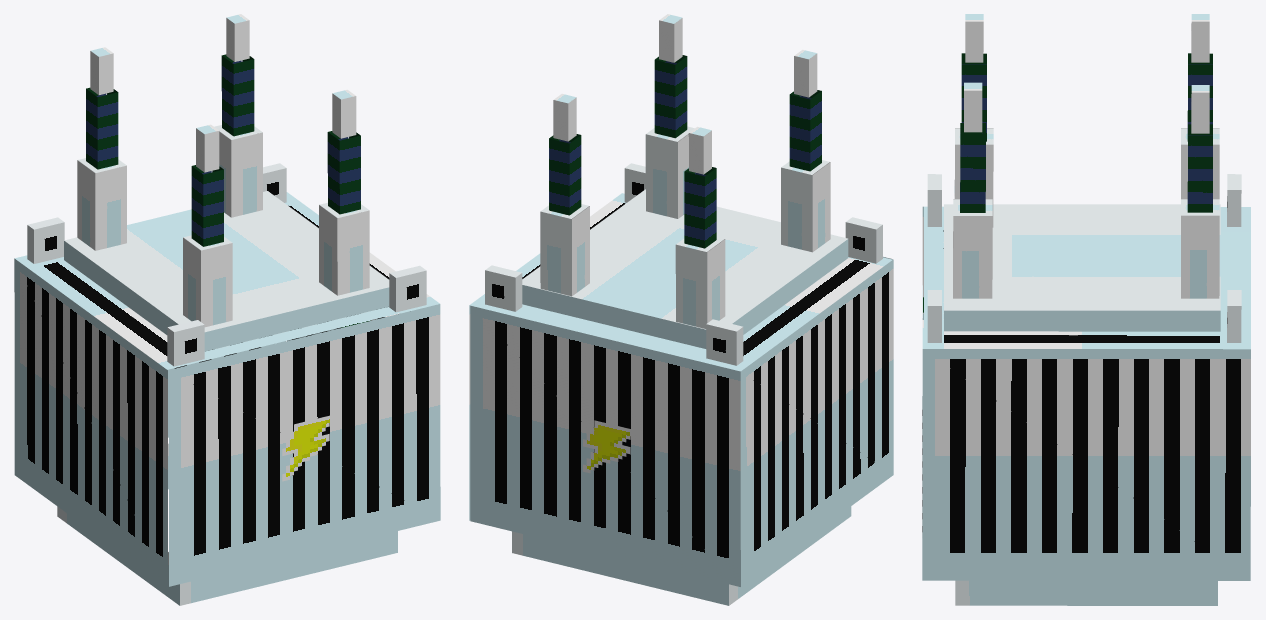
Rendered from BGN_POWER BOX.fbx.
3 renders of one model, left to right at view 1: azimuth 30°, elevation 25°; view 2: azimuth 150°, elevation 25°; view 3: azimuth 270°, elevation 25°, orthographic. The views are drawn at different scales.
Parts seen in each view (by area): view 1: BGN_POWER_BOX; view 2: BGN_POWER_BOX; view 3: BGN_POWER_BOX.
Boxes of the visible parts, <box> form: BGN_POWER_BOX: <box>14,14,440,605</box>; BGN_POWER_BOX: <box>469,14,893,605</box>; BGN_POWER_BOX: <box>922,14,1250,605</box>.
Bounding box in the file's own units: 296 × 480 × 289.
